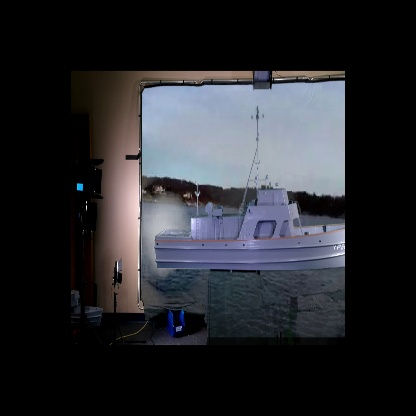YP689: (153, 102, 345, 270)
